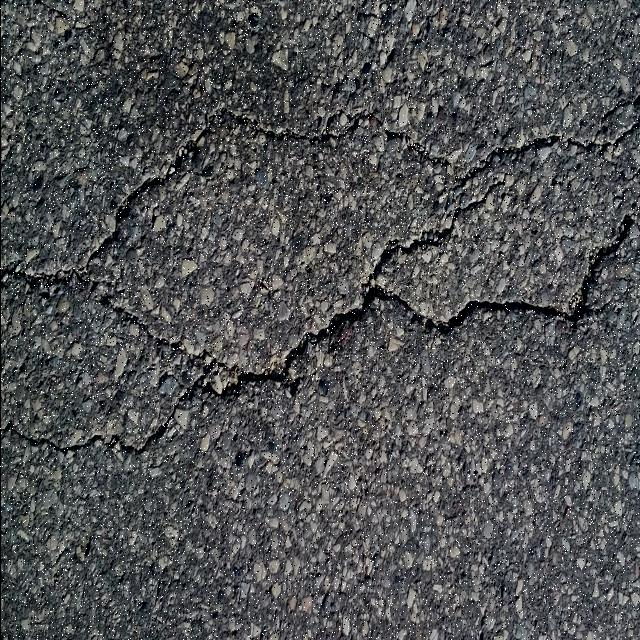Crack: (0, 92, 640, 459), (0, 103, 402, 300), (97, 294, 232, 369)
